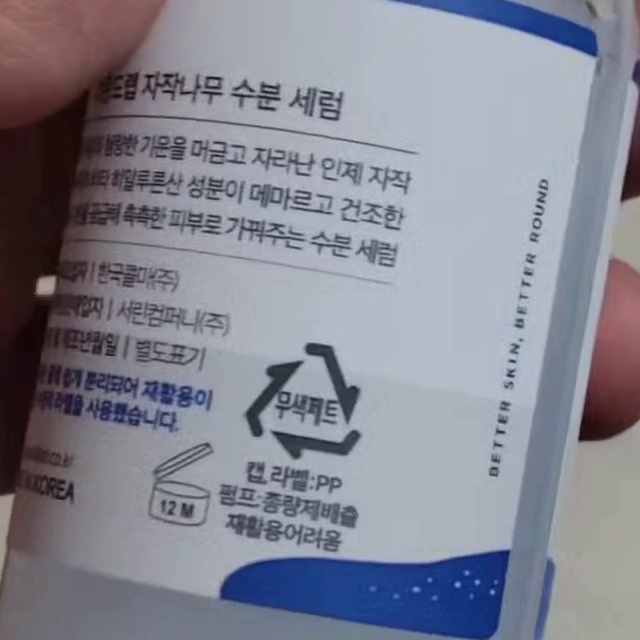ColorlessPet: (245, 340, 363, 461)
